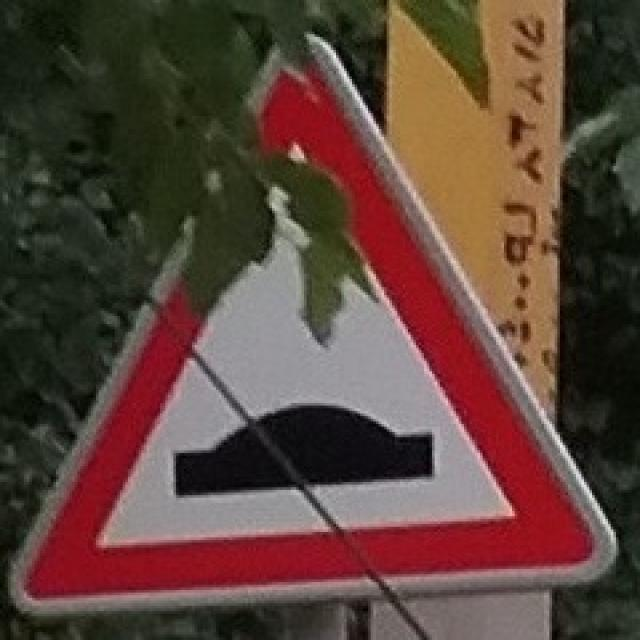HUMP_OR_ROUGH_ROAD: (12, 33, 615, 621)
